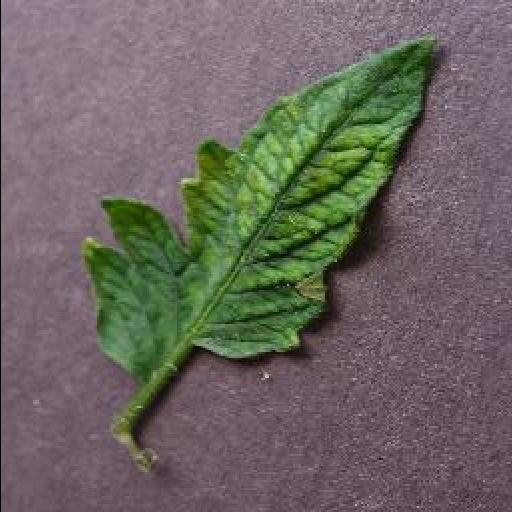disease_tomato: (81, 36, 451, 380)
